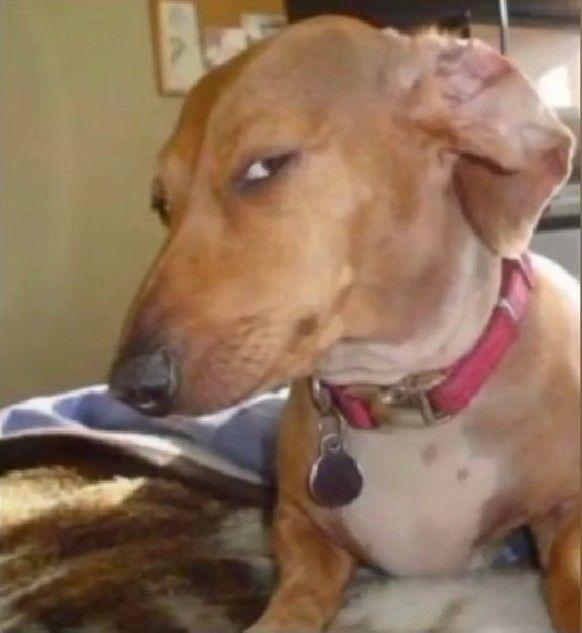adult_dog: (105, 12, 582, 633)
